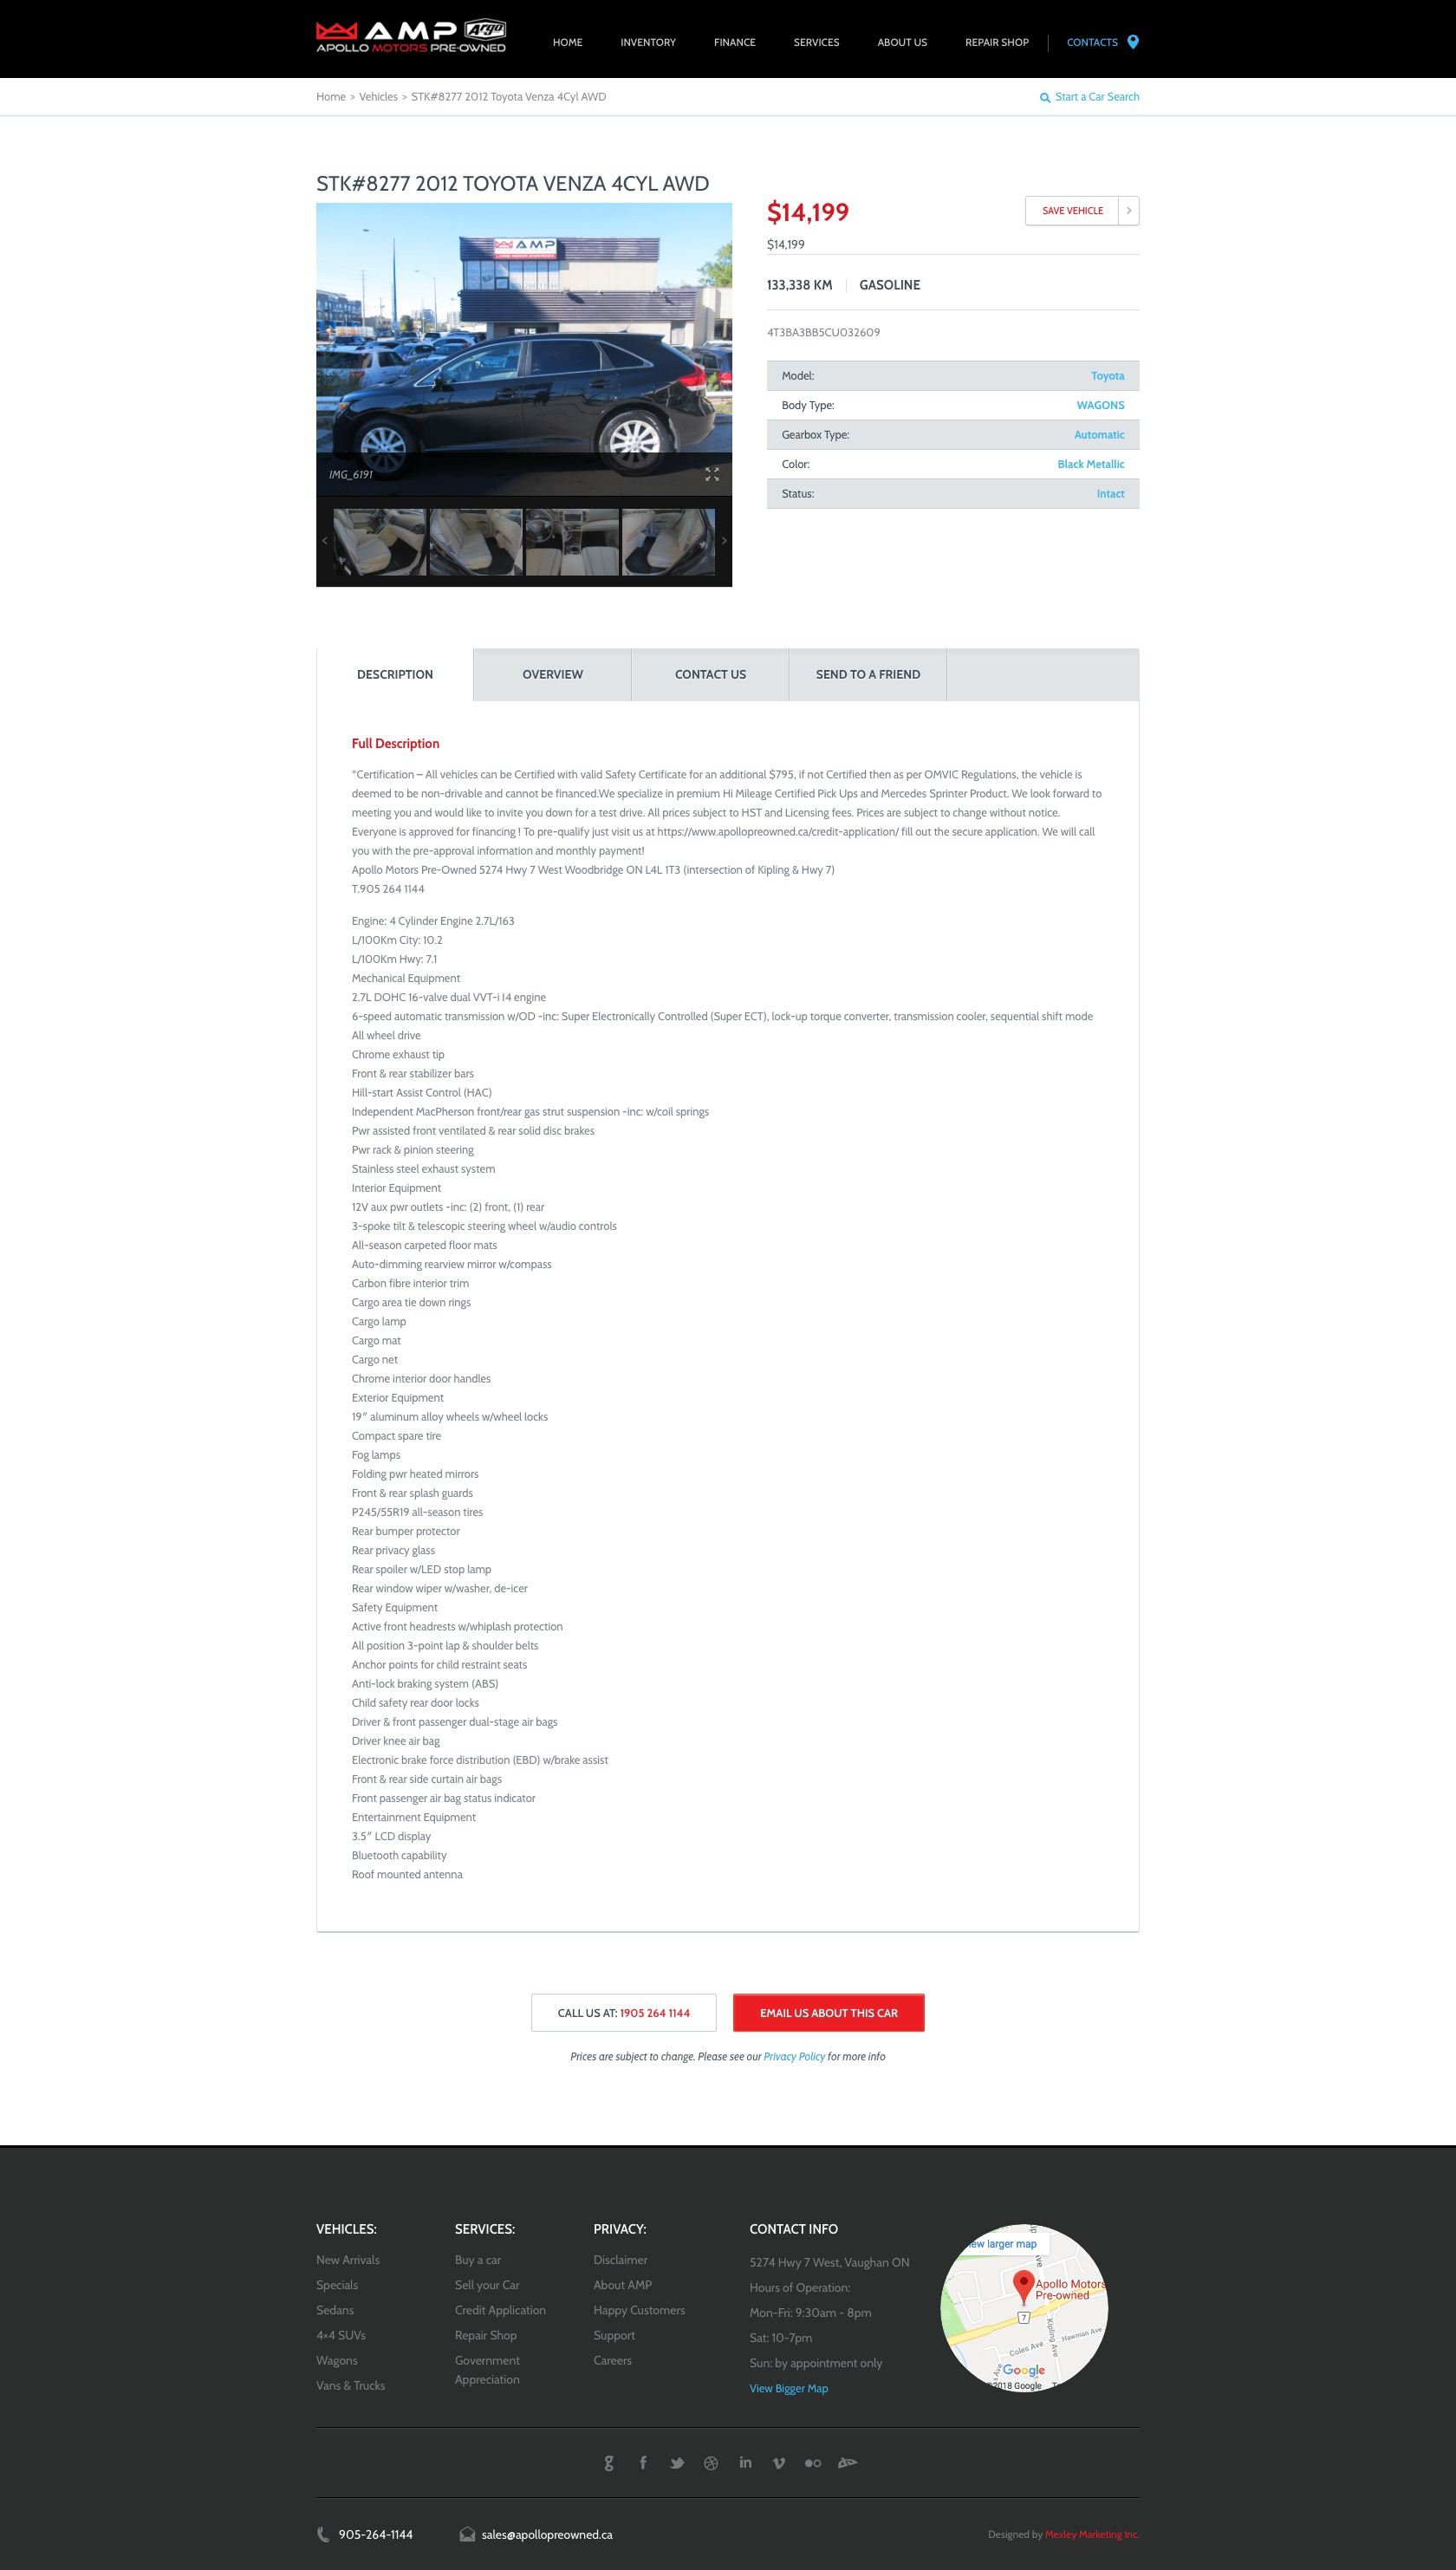car: (722, 537, 727, 545)
